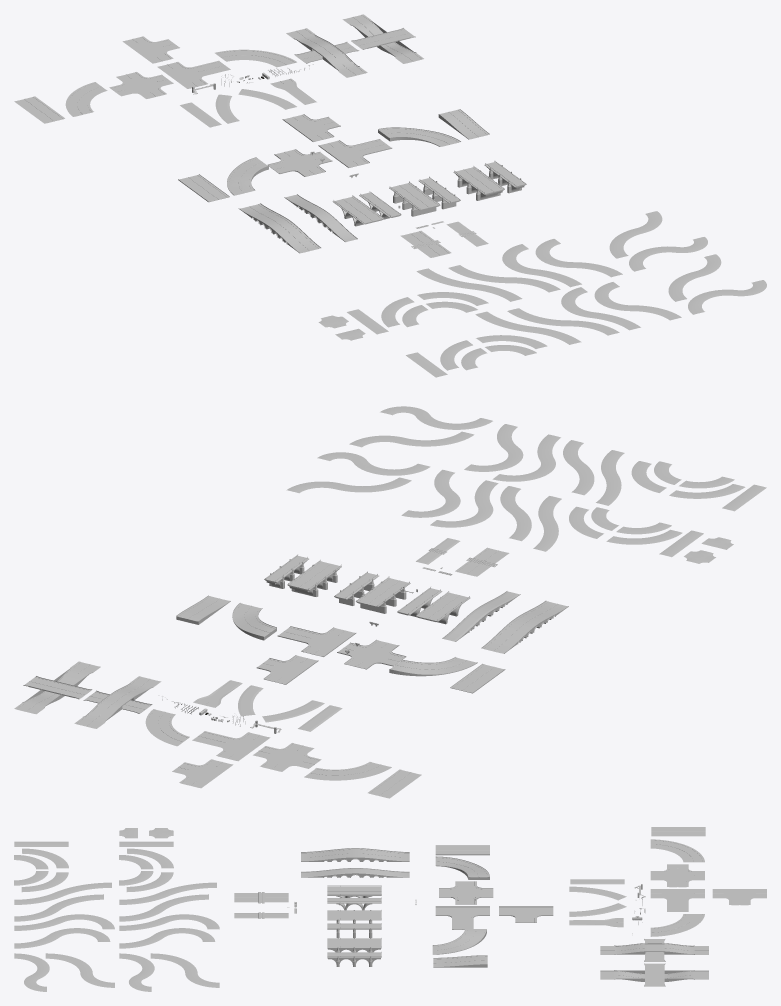
The model's file is proroadpack.FBX.
The picture shows the model from 3 angles, top to bottom: view 1: azimuth 30°, elevation 25°; view 2: azimuth 150°, elevation 25°; view 3: azimuth 270°, elevation 25°; orthographic projection. The views are drawn at different scales.
Visible parts, largest first — view 1: road_07, road_06, bridge_01, road_15, road_14, road_03, road_04, bridge_05, bridge_07, road_16, bridge_02, road_13 (+23 smaller); view 2: road_07, road_06, bridge_01, road_15, road_14, road_03, road_04, bridge_05, bridge_07, road_13, bridge_02, road_15_01 (+23 smaller); view 3: road_07, road_06, bridge_01, road_14, bridge_02, road_03, road_15, road_04, road_16, bridge_07, road_15_01, road_13 (+35 smaller).
Boxes of the visible parts, x1,y1,x2,y2 form: road_07: (342,14,423,63); road_06: (286,28,367,77); bridge_01: (238,203,321,253); road_15: (318,139,392,167); road_14: (267,149,332,176); road_03: (109,72,173,98); road_04: (157,60,230,88); bridge_05: (389,181,440,216); bridge_07: (453,166,504,200); road_16: (378,127,460,146); bridge_02: (284,194,357,242); road_13: (227,157,268,195); road_07: (14,661,100,714); road_06: (74,676,161,728); bridge_01: (481,600,568,653); road_15: (277,626,356,656); road_14: (337,639,406,669); road_03: (253,743,321,771); road_04: (192,731,270,761); bridge_05: (356,576,410,613); bridge_07: (287,560,341,596); road_13: (389,657,477,676); bridge_02: (442,591,520,641); road_15_01: (256,655,318,684); road_07: (600,963,708,986); road_06: (600,939,708,961); bridge_01: (301,848,409,861); road_14: (439,881,493,904); bridge_02: (301,868,409,877); road_03: (650,864,704,887); road_15: (435,906,489,929); road_04: (650,889,704,911); road_16: (432,929,486,954); bridge_07: (327,938,381,952); road_15_01: (499,906,553,922); road_13: (435,856,489,879).
Bounding box in the file's own units: 718 × 33.64 × 1387.
